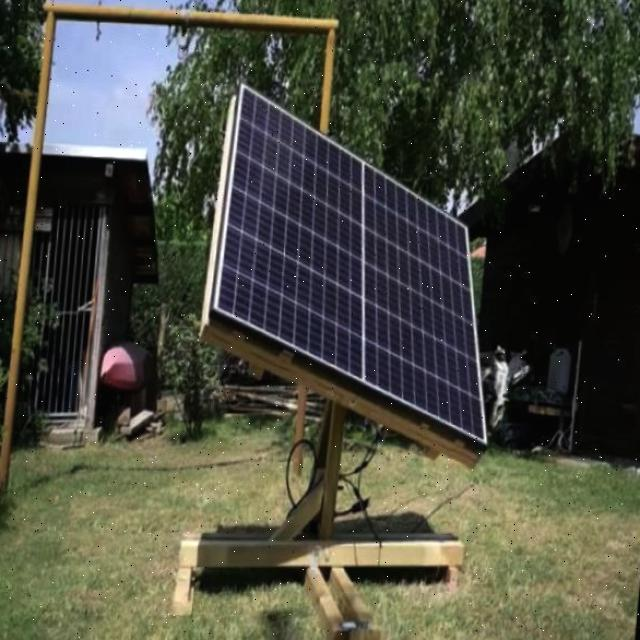Normal Solar Panel: (200, 80, 514, 461)
